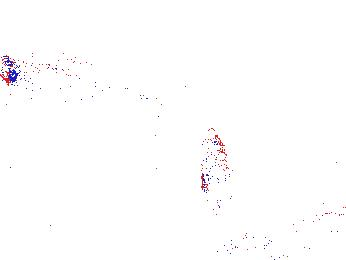X-ray fish: (196, 128, 237, 244)
glassfish: (1, 51, 184, 132)
siberian prawn: (246, 210, 346, 253)
